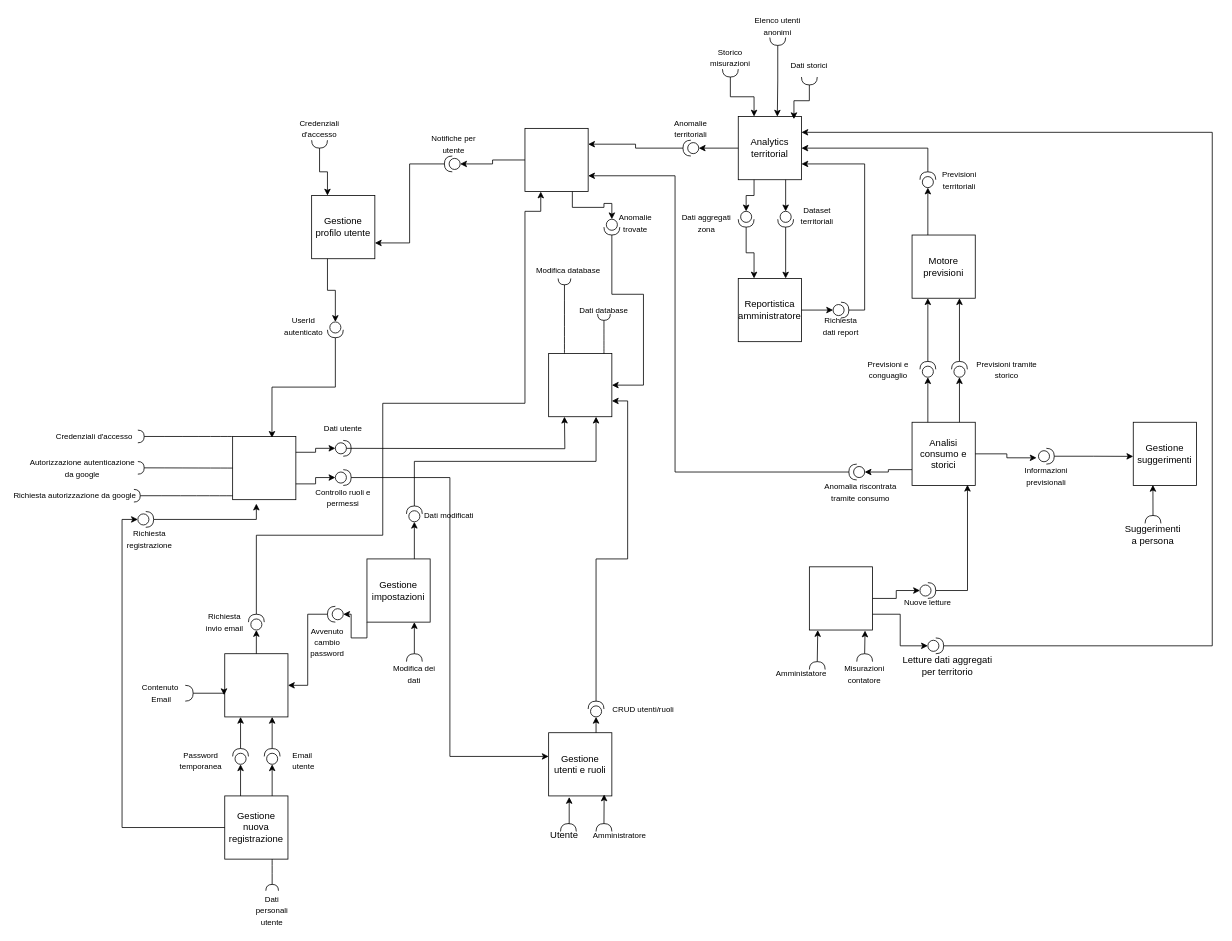
The diagram is 1232 pixels wide and 941 high, and some of its shapes have lost their labels. The centre of each missing label's shape, as x and y in pixels:
"Acquisizione letture" belongs at (x=841, y=598).
"Gestione autenticazione" belongs at (x=264, y=468).
"Gestione database" belongs at (x=580, y=385).
"Gestione invio email" belongs at (x=256, y=685).
"Gestione notifiche e anomalie" belongs at (x=556, y=160).
